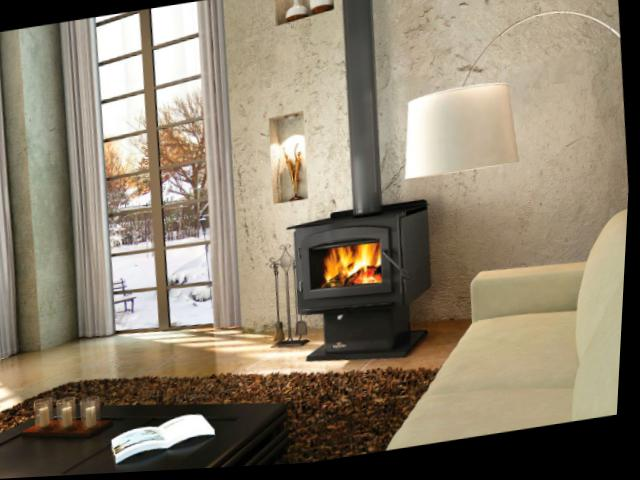fire: (321, 244, 386, 293)
